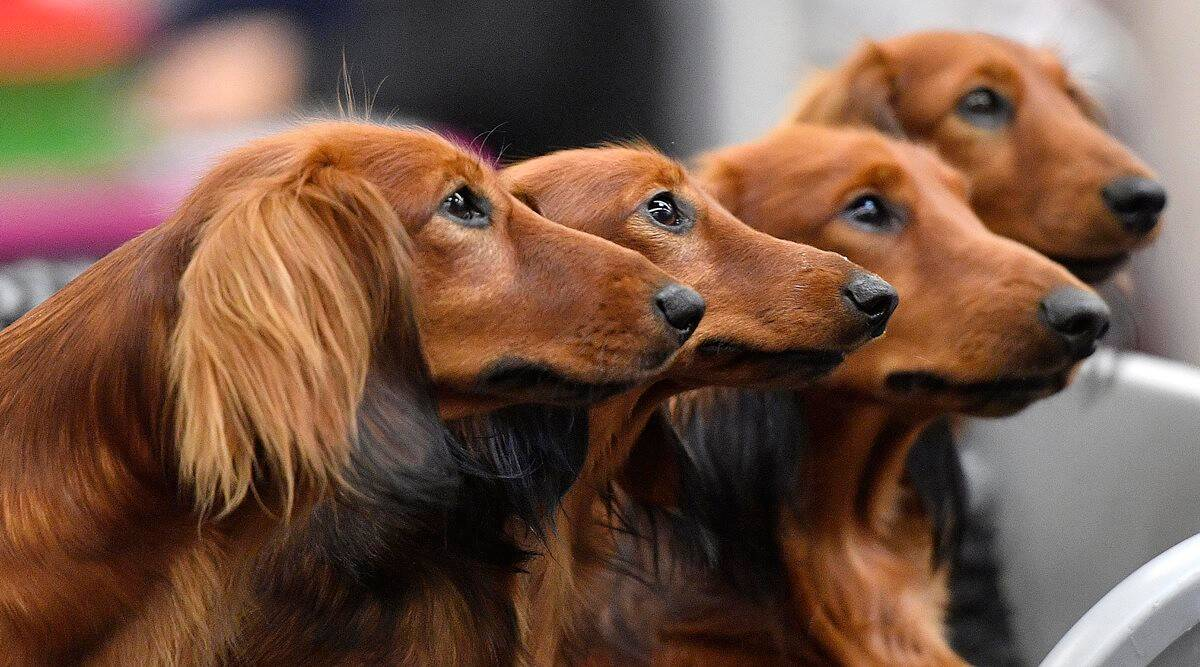dog: (268, 123, 626, 390), (630, 177, 865, 368), (904, 42, 1145, 210), (885, 195, 1069, 385)
